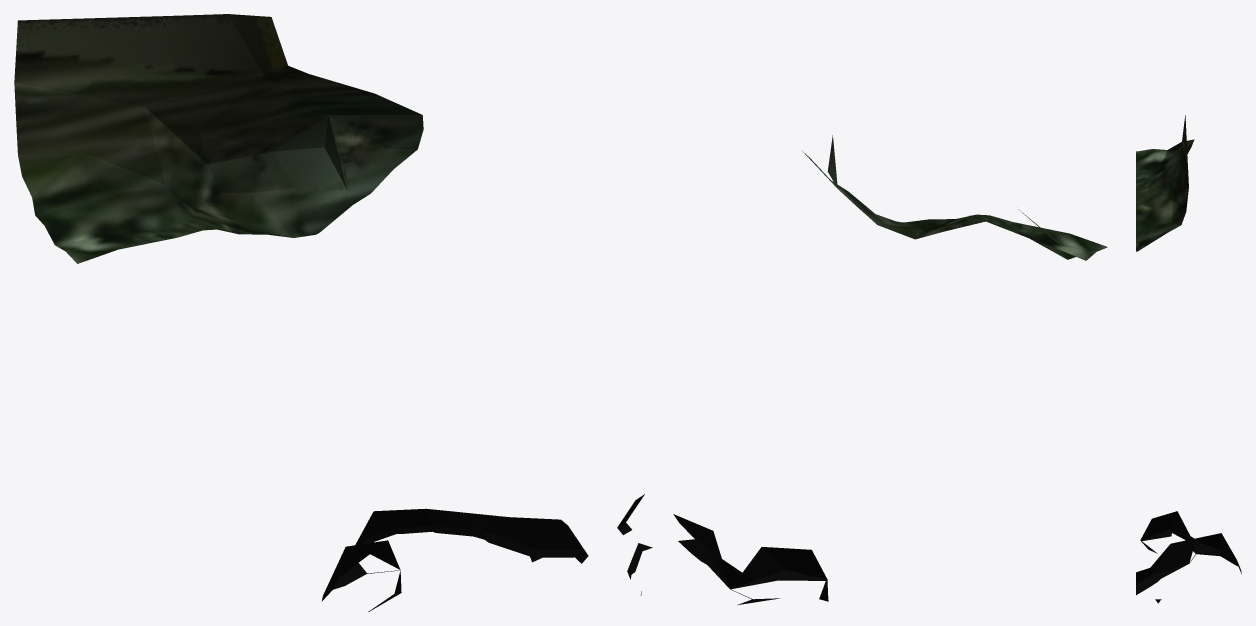
The picture shows the model from 3 angles, left to right: view 1: azimuth 30°, elevation 25°; view 2: azimuth 150°, elevation 25°; view 3: azimuth 270°, elevation 25°; orthographic projection. The views are drawn at different scales.
Bounding box in the file's own units: 1.44 × 1.67 × 0.3751.
Materials: 1 (1 with a texture image).
